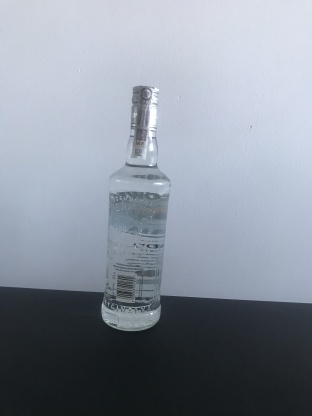nakretka: (128, 82, 161, 133)
